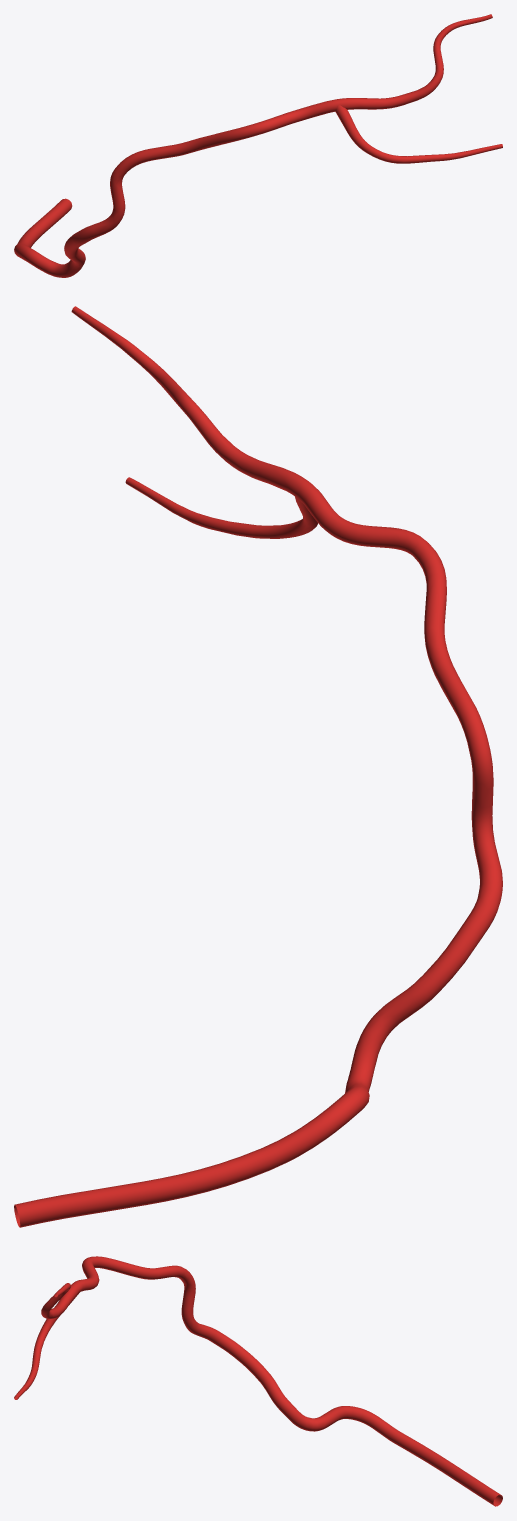
File: circulatorio-lateral-frontobasal-artery-r.glb
3 views of the same model, one above another, from view 1: azimuth 30°, elevation 25°; view 2: azimuth 150°, elevation 25°; view 3: azimuth 270°, elevation 25° (orthographic). The views are drawn at different scales.
Parts seen in each view (by area): view 1: Lateral frontobasal artery.r; view 2: Lateral frontobasal artery.r; view 3: Lateral frontobasal artery.r.
Boxes of the visible parts, x1=… form: Lateral frontobasal artery.r: x1=14, y1=14, x2=502, y2=277; Lateral frontobasal artery.r: x1=14, y1=306, x2=502, y2=1227; Lateral frontobasal artery.r: x1=14, y1=1256, x2=502, y2=1506.
Size of the model in its own units: 0.0444 by 0.0407 by 0.0591.
